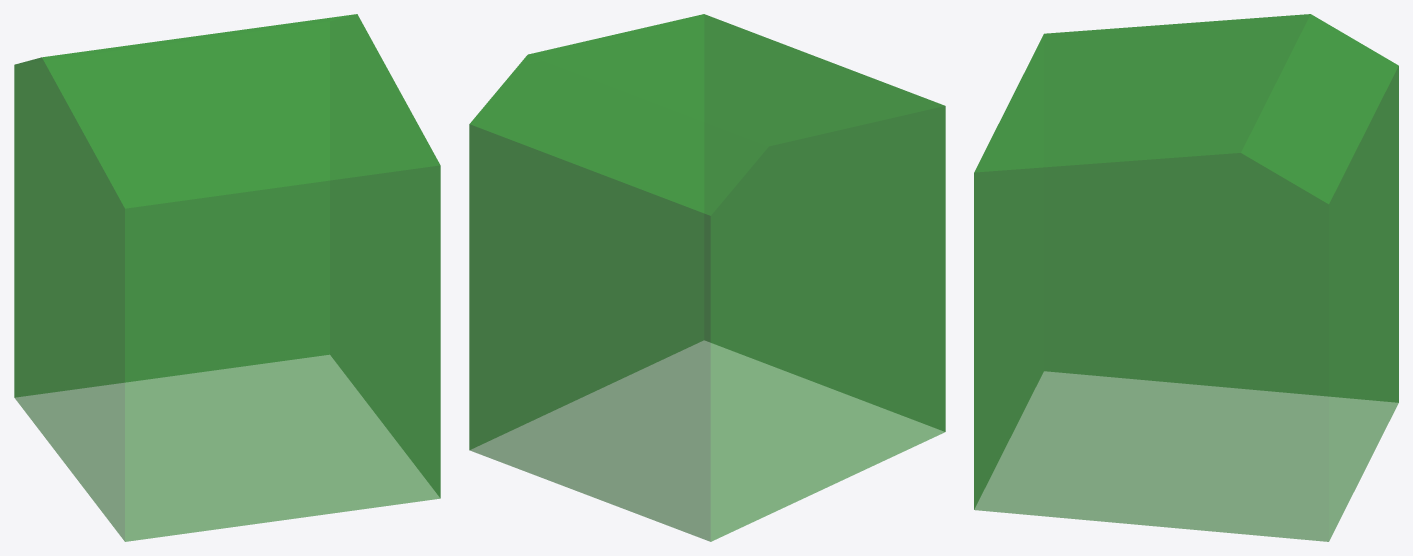
Rendered from polymsh_extracted1585.obj.
3 renders of one model, left to right at view 1: azimuth 30°, elevation 25°; view 2: azimuth 150°, elevation 25°; view 3: azimuth 270°, elevation 25°, orthographic. The views are drawn at different scales.
Bounding box in the file's own units: 4.22 × 4.39 × 4.43.
